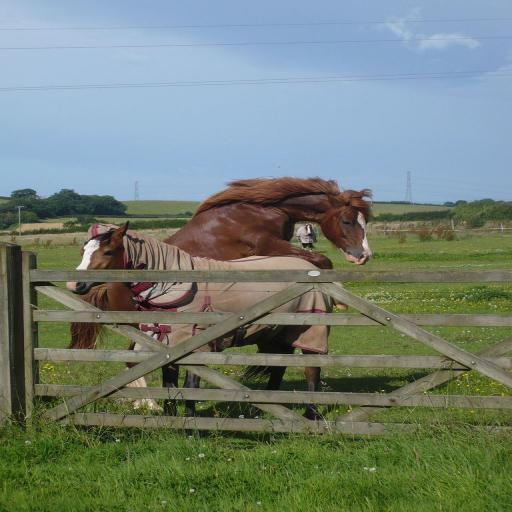horse: (58, 176, 374, 416), (64, 219, 331, 417)
